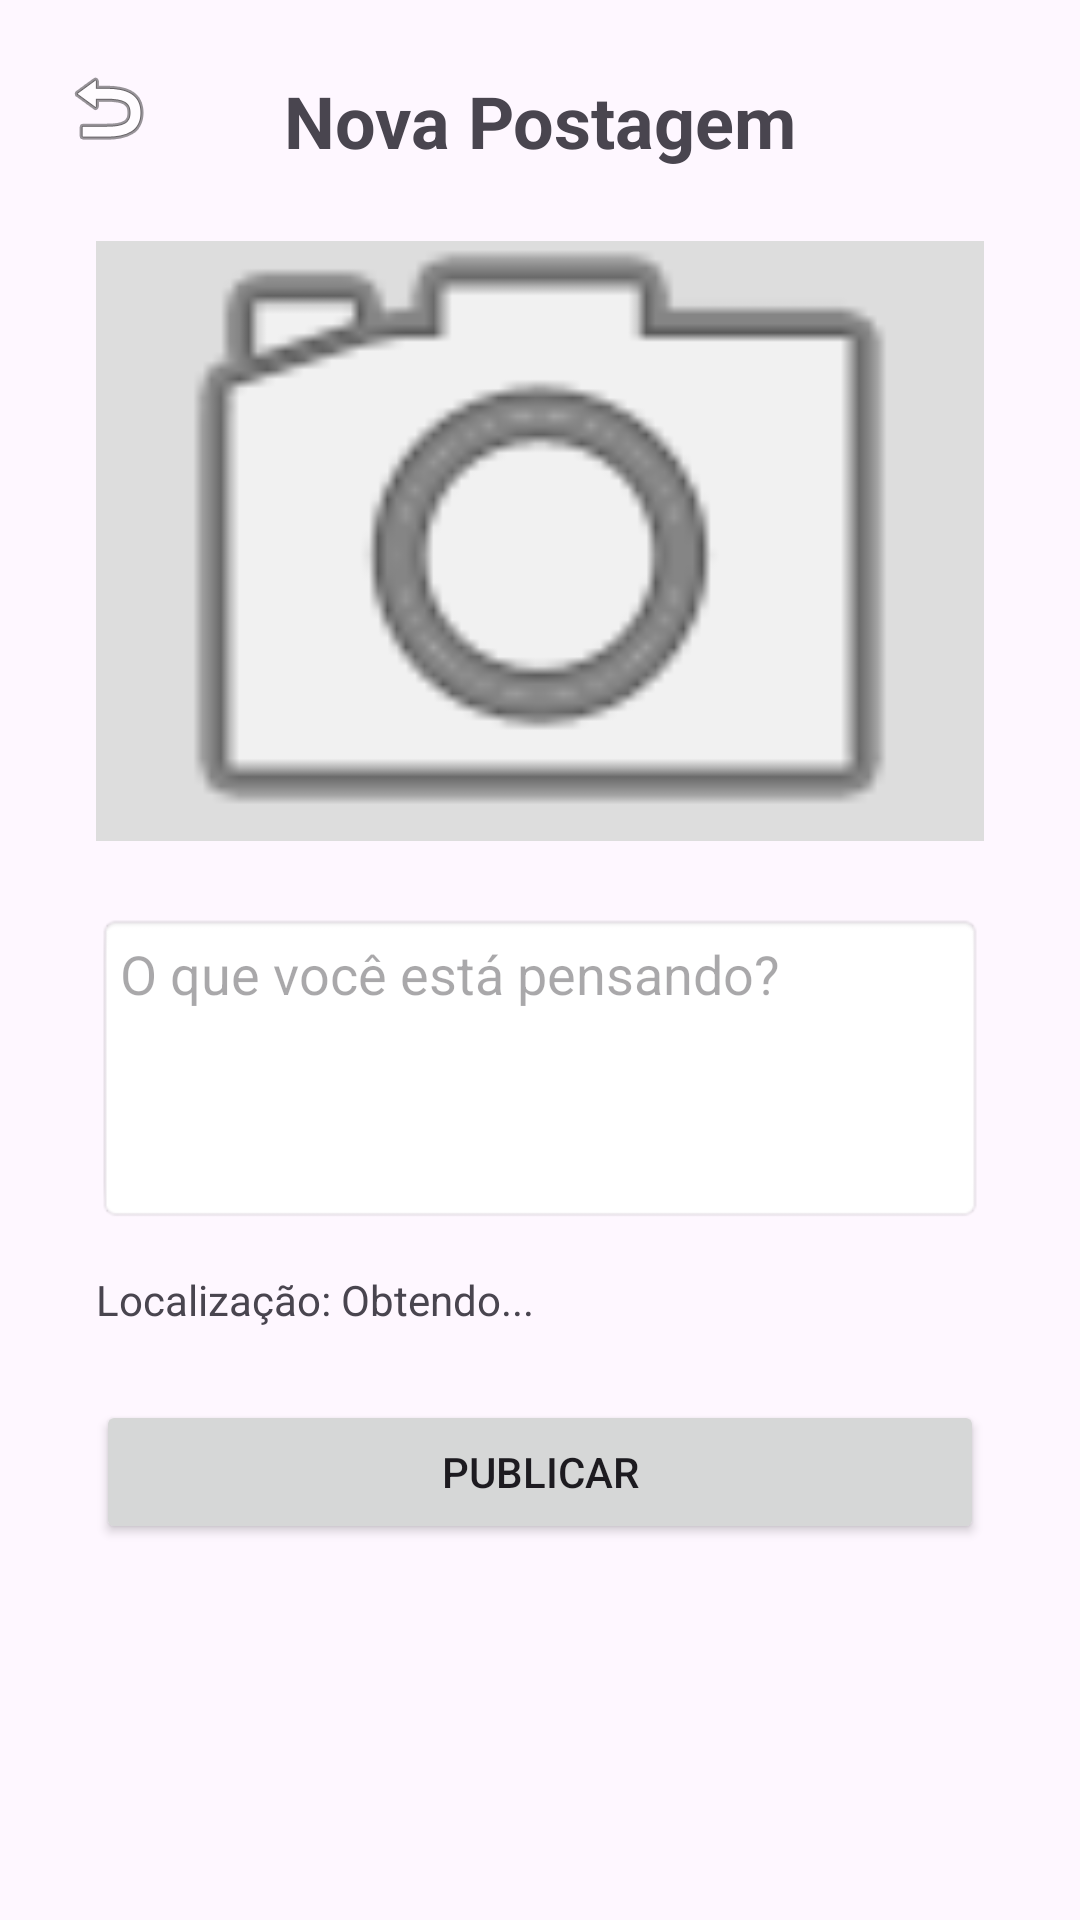

Icons on this 1080w x 1920h Android screen, each with the point to tap as point (x, y):
Voltar: point (109, 108)
